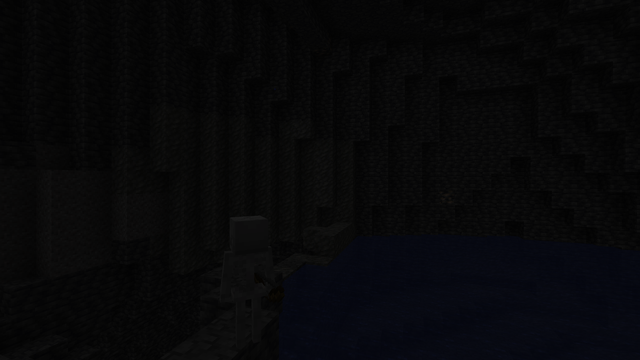squelettes: (220, 215, 273, 358)
